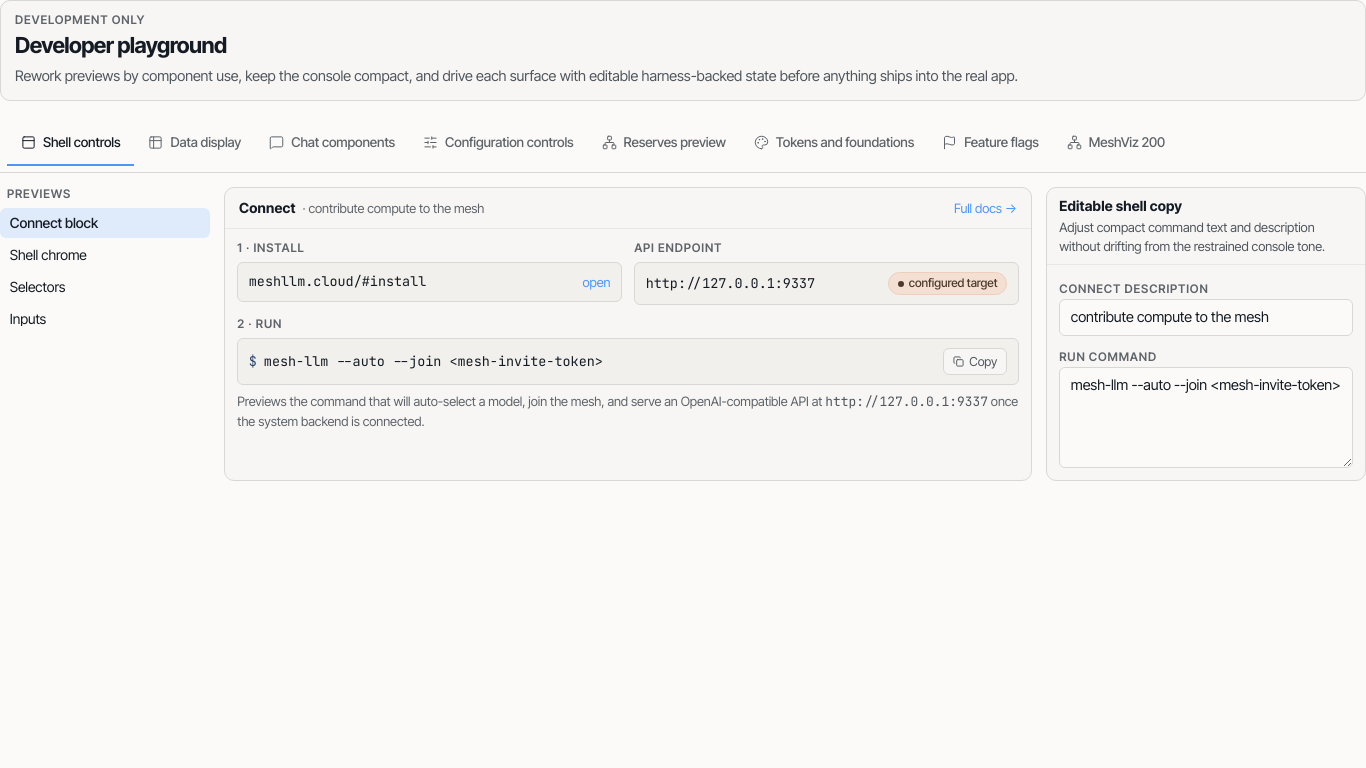
Scenario: DeveloperPlaygroundPage › exposes the 200-node MeshViz benchmark as a full-width playground tab
The width and height of the screenshot is (1366, 768).
Click the tab "MeshViz 200" at [1116, 144], box [1053,122,1179,166]
(page scrolled)
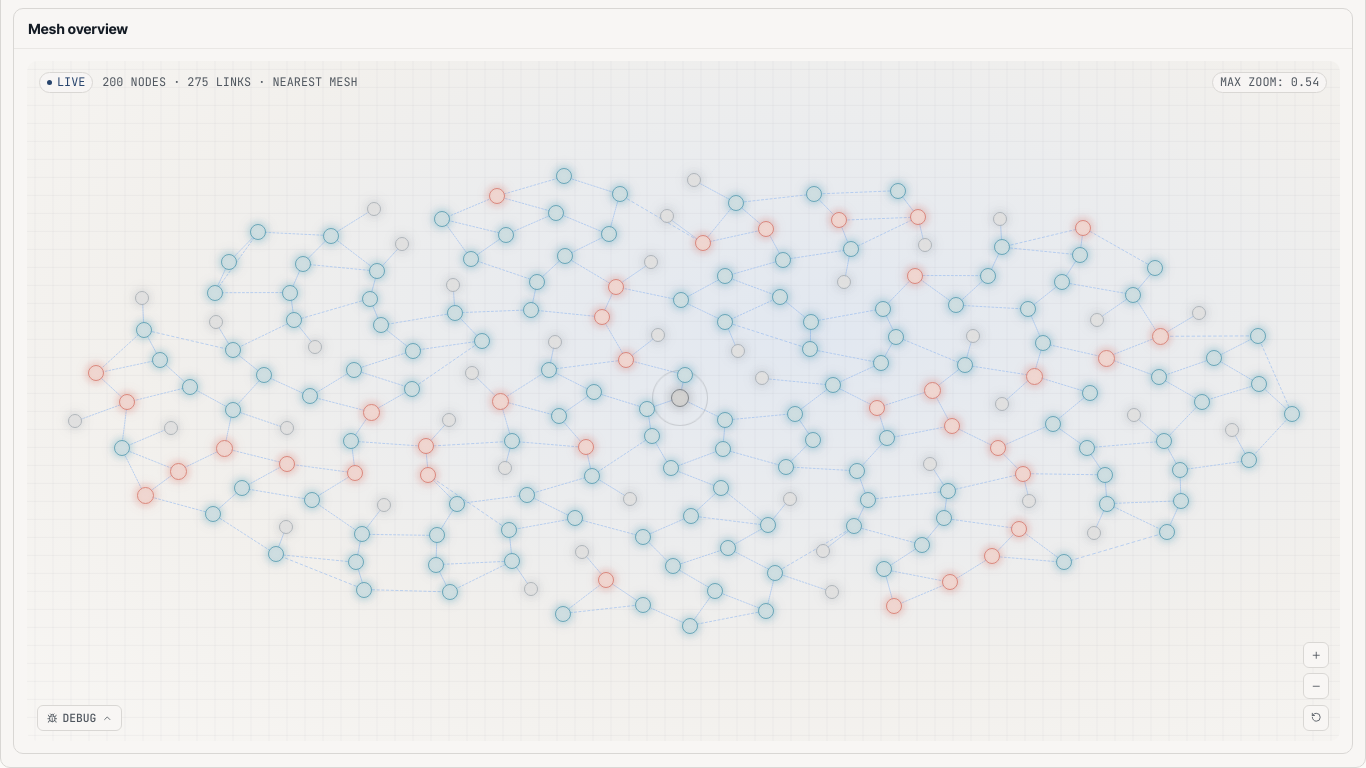
Now the element with test id "mesh-canvas" is shown
